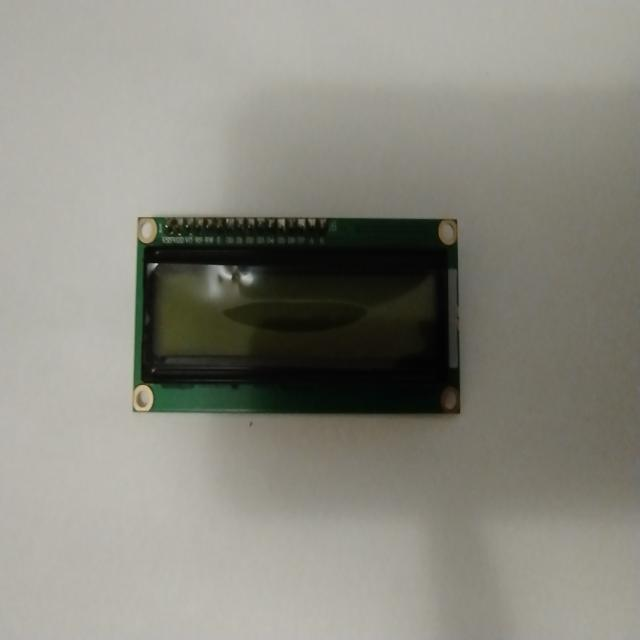lcd: (132, 213, 462, 417)
